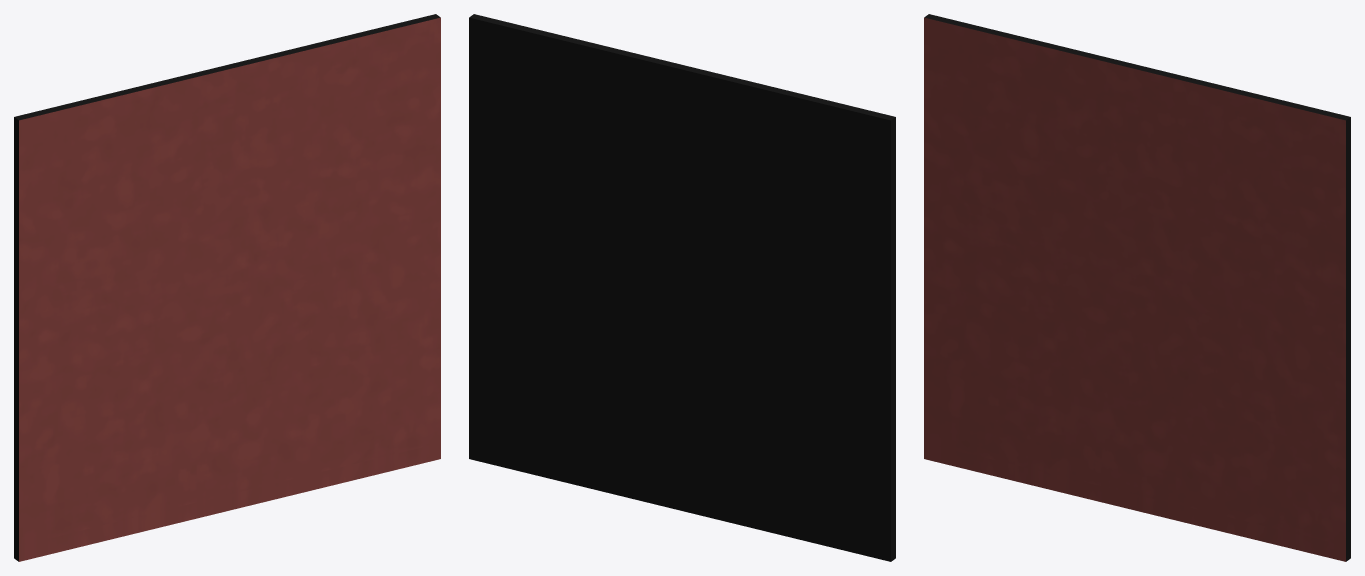
The model's file is Wall_D_04.FBX.
3 renders of one model, left to right at view 1: azimuth 30°, elevation 25°; view 2: azimuth 150°, elevation 25°; view 3: azimuth 330°, elevation 25°, orthographic.
Parts seen in each view (by area): view 1: Wall_B; view 2: Wall_B; view 3: Wall_B.
Part boxes in pixels (x1,y1,x2,y2): Wall_B: (14, 14, 440, 561); Wall_B: (469, 14, 895, 561); Wall_B: (924, 14, 1350, 561).
Size of the model in its own units: 500 by 500 by 10.
